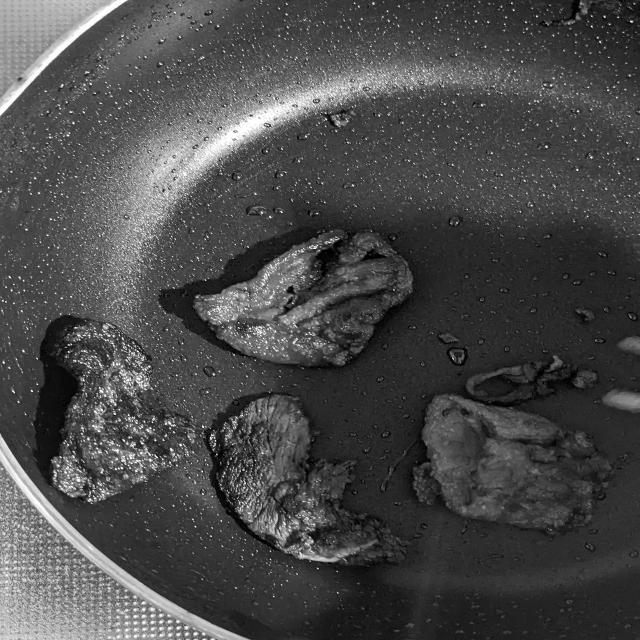overcooked beef,: (207, 388, 412, 570), (44, 309, 206, 511)
overcooked pork: (189, 230, 432, 385), (408, 389, 618, 537)
